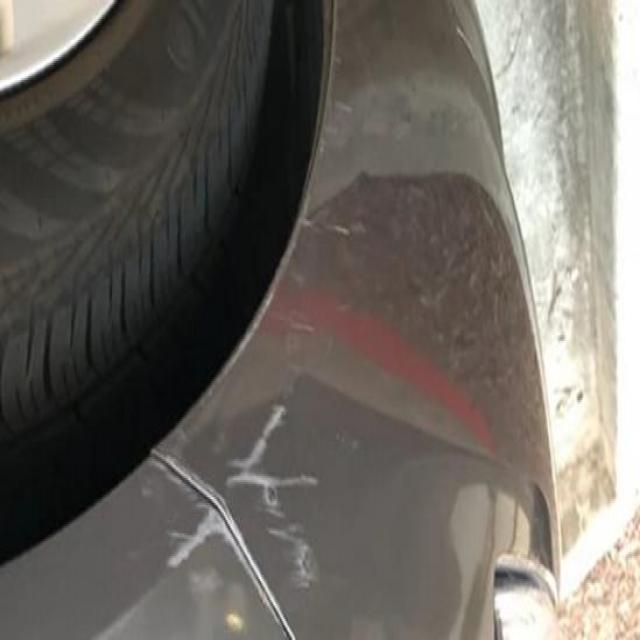scratch: (146, 390, 322, 640)
